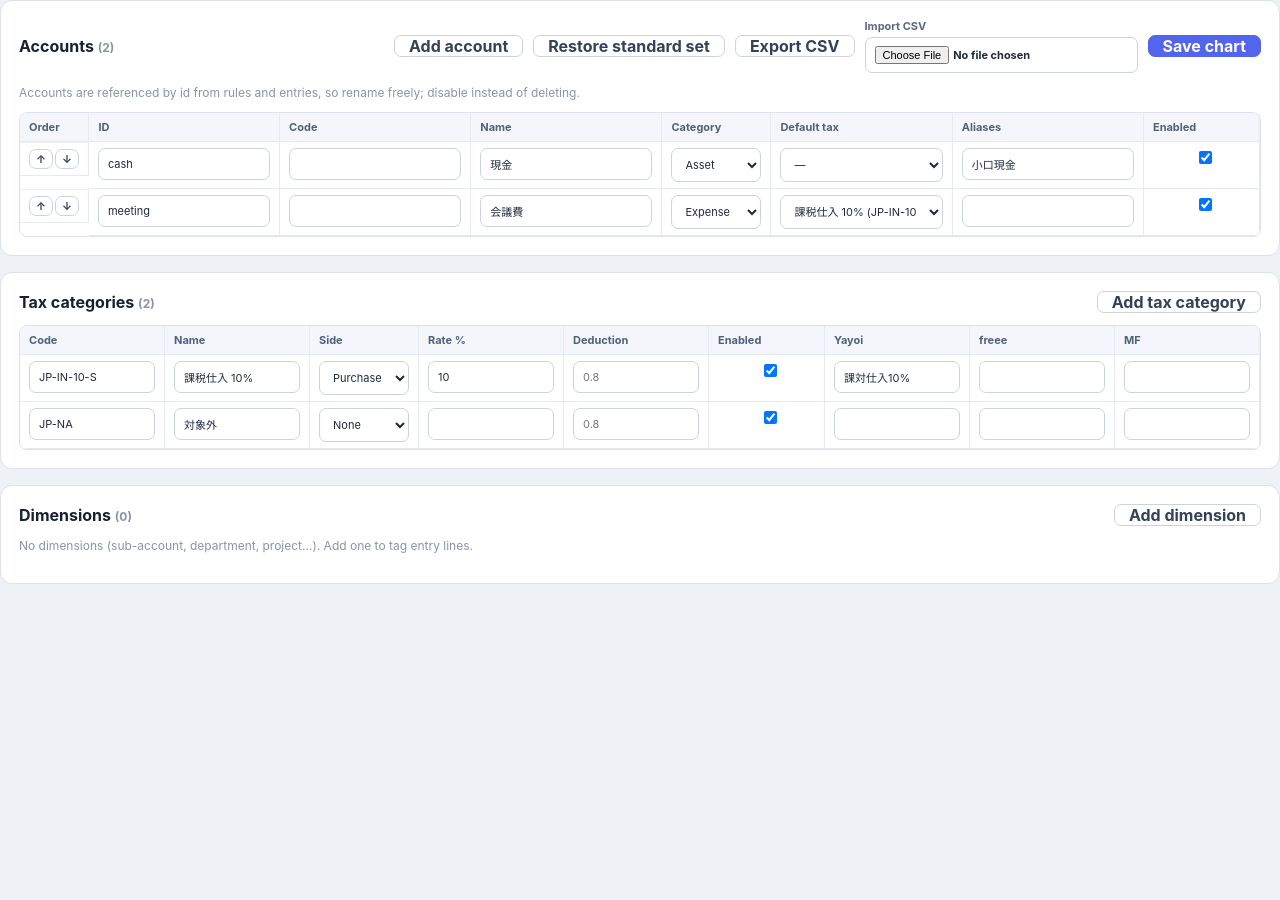
Scenario: ChartTab › 正常: 科目を追加して保存すると、新しい科目がマスタに載る
Click the button "Add account" at (459, 46), box [394,35,523,57]
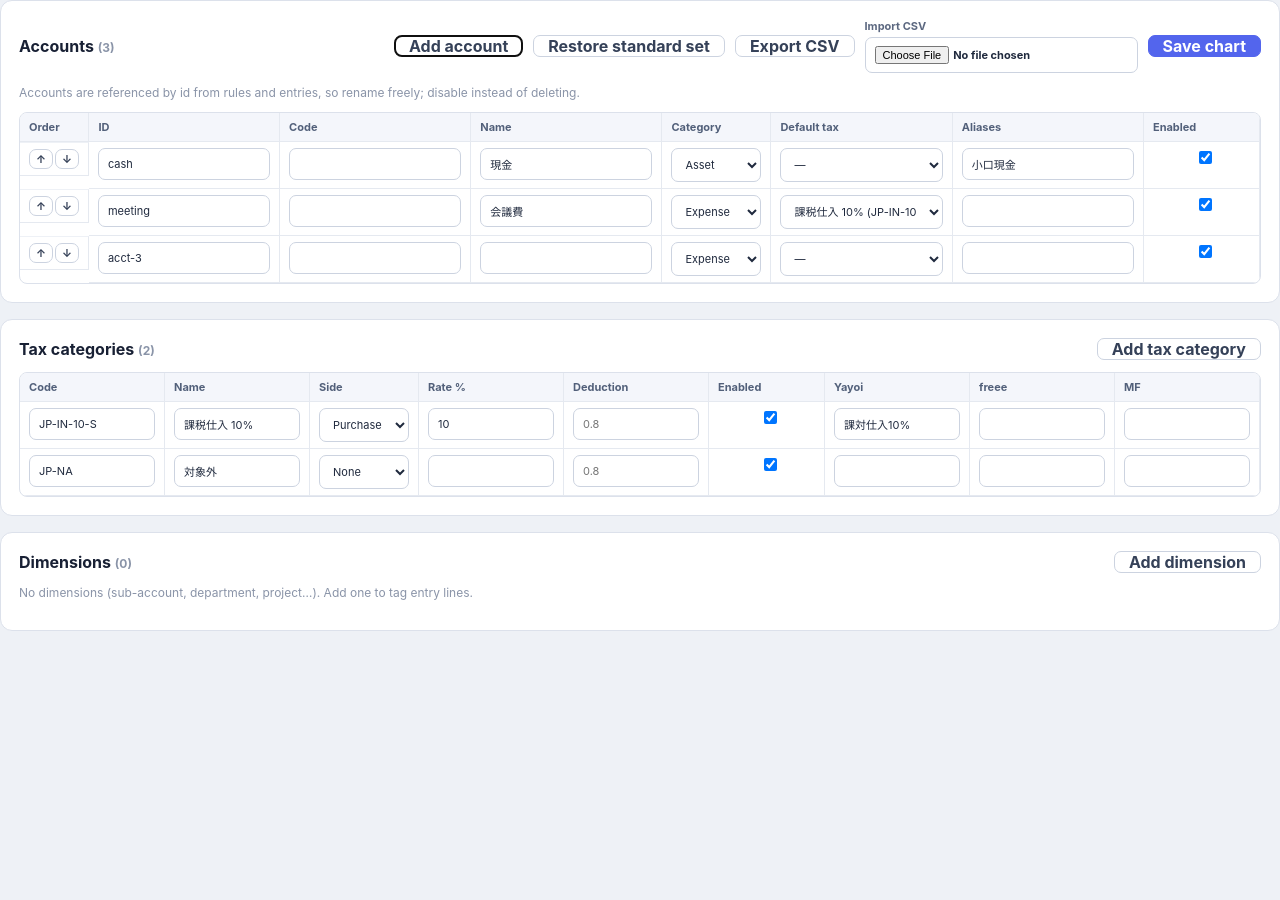
Type "通信費" into the field named "Account 3 name" at (566, 258), box [480,242,652,274]
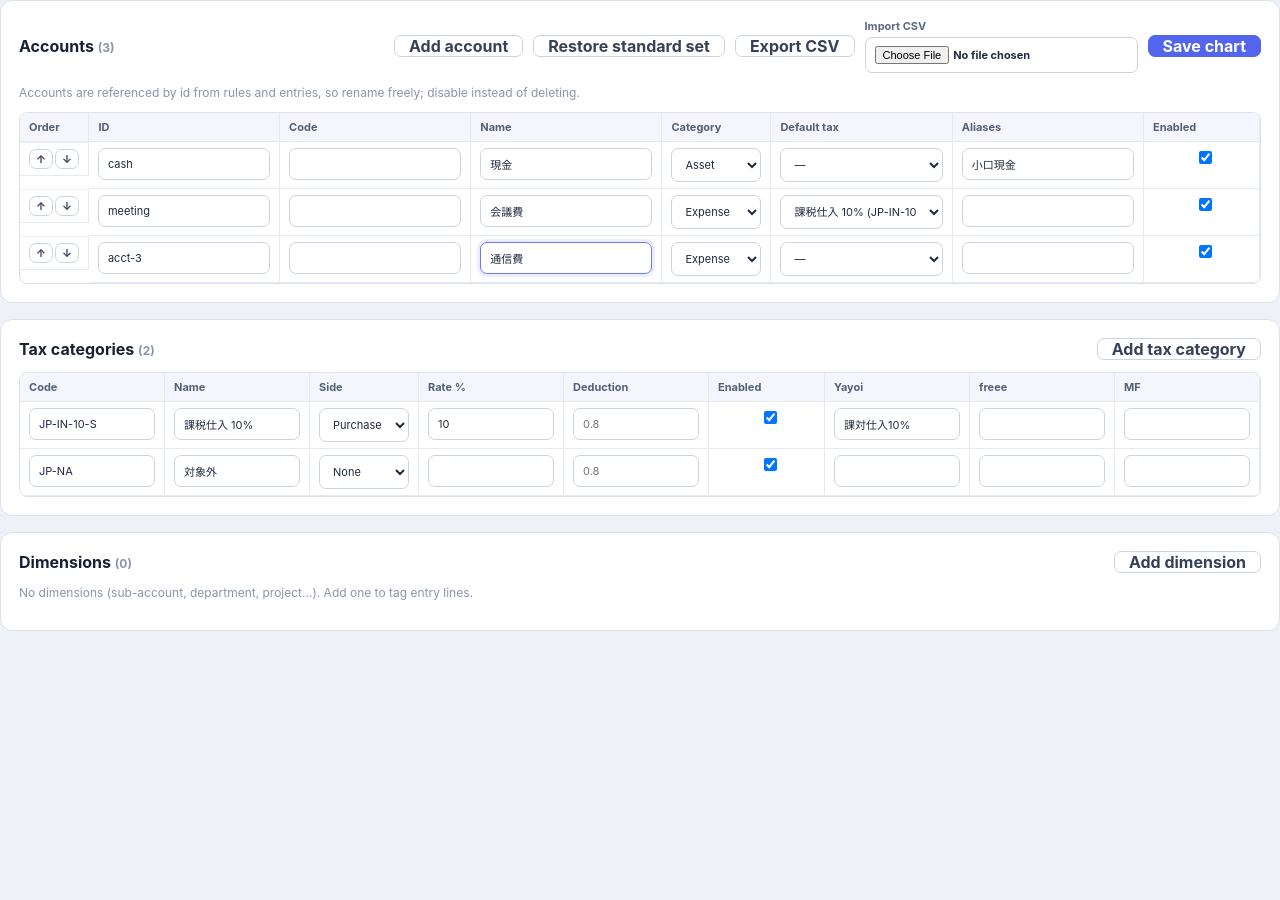
Click the button "Save chart" at (1204, 46), box [1148,35,1261,57]
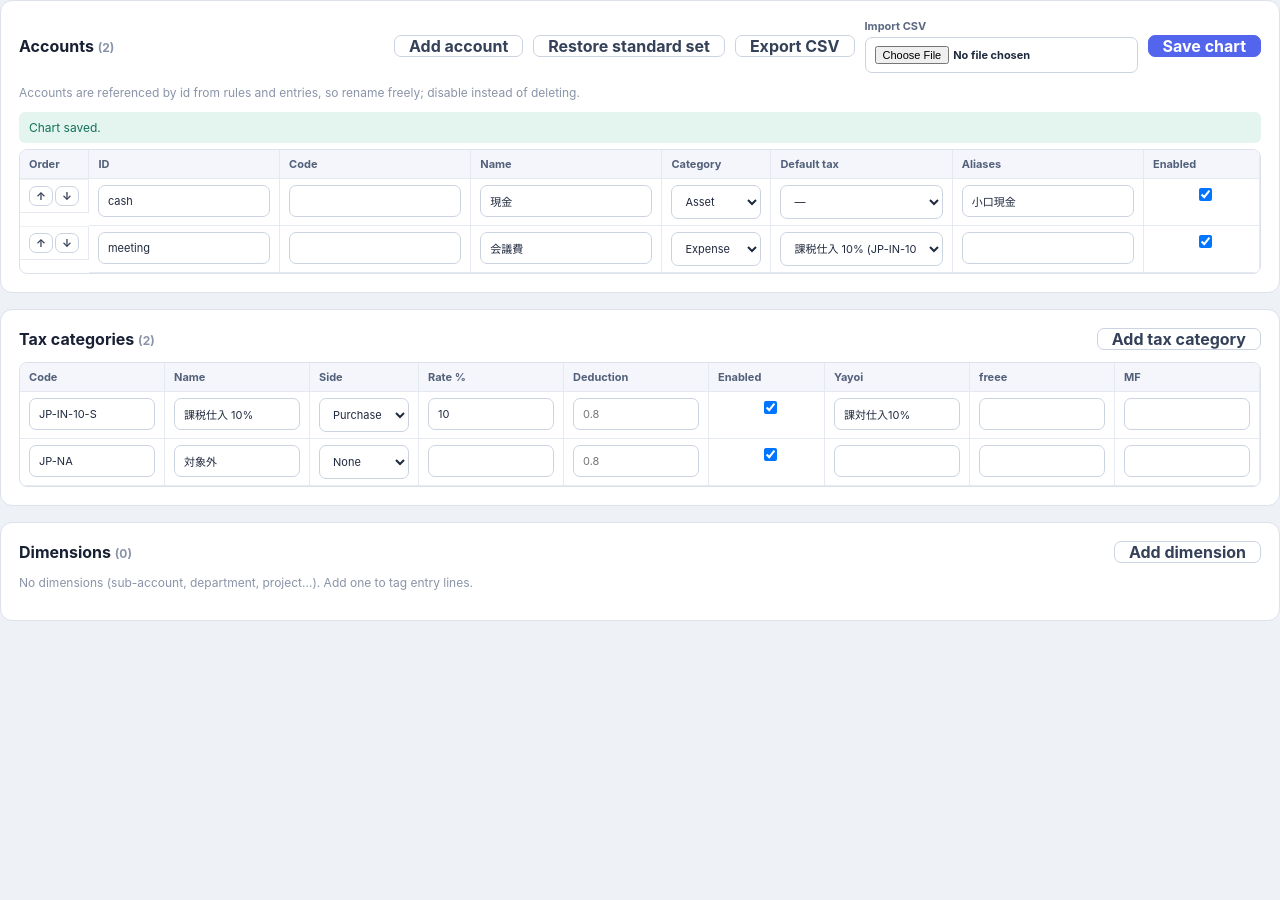
Check: the text "Chart saved." is shown, box [19,112,1261,143]
